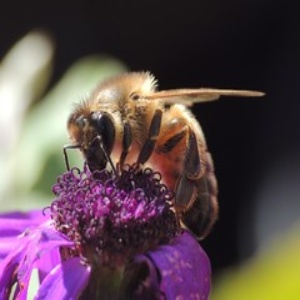bee: (64, 64, 271, 241)
